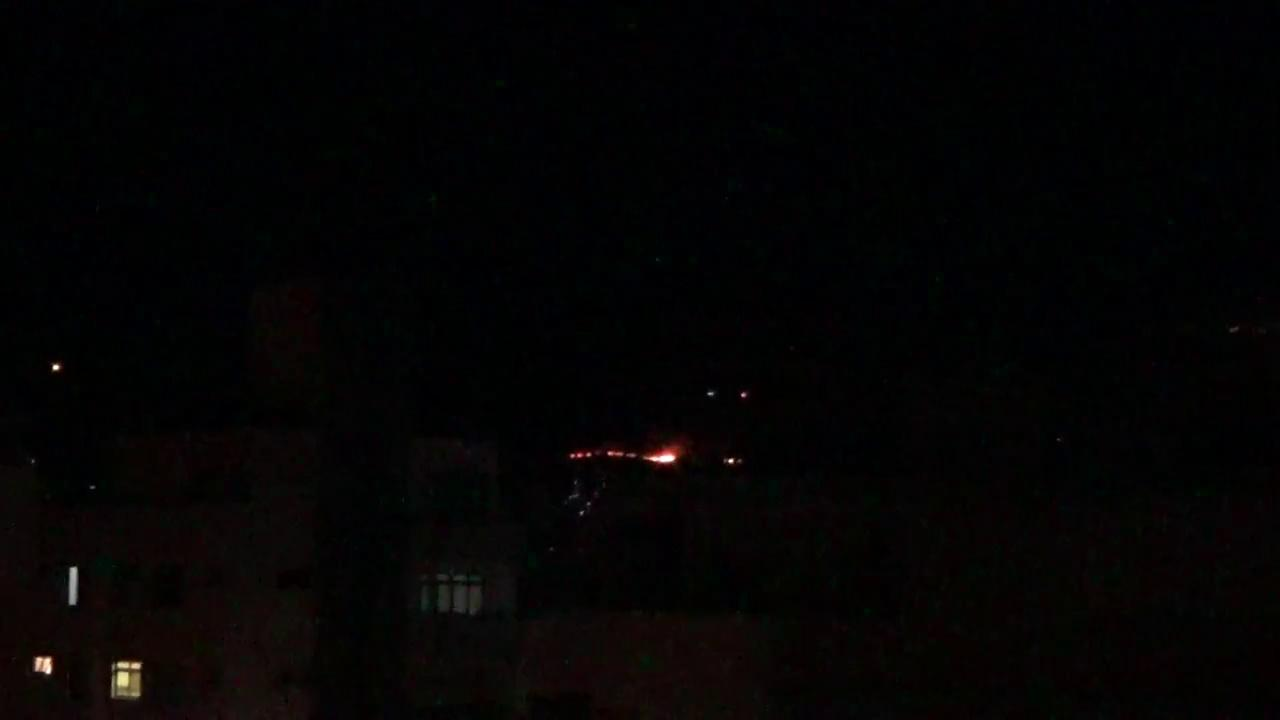fire: (642, 448, 676, 466), (563, 445, 593, 458), (607, 447, 635, 459)
